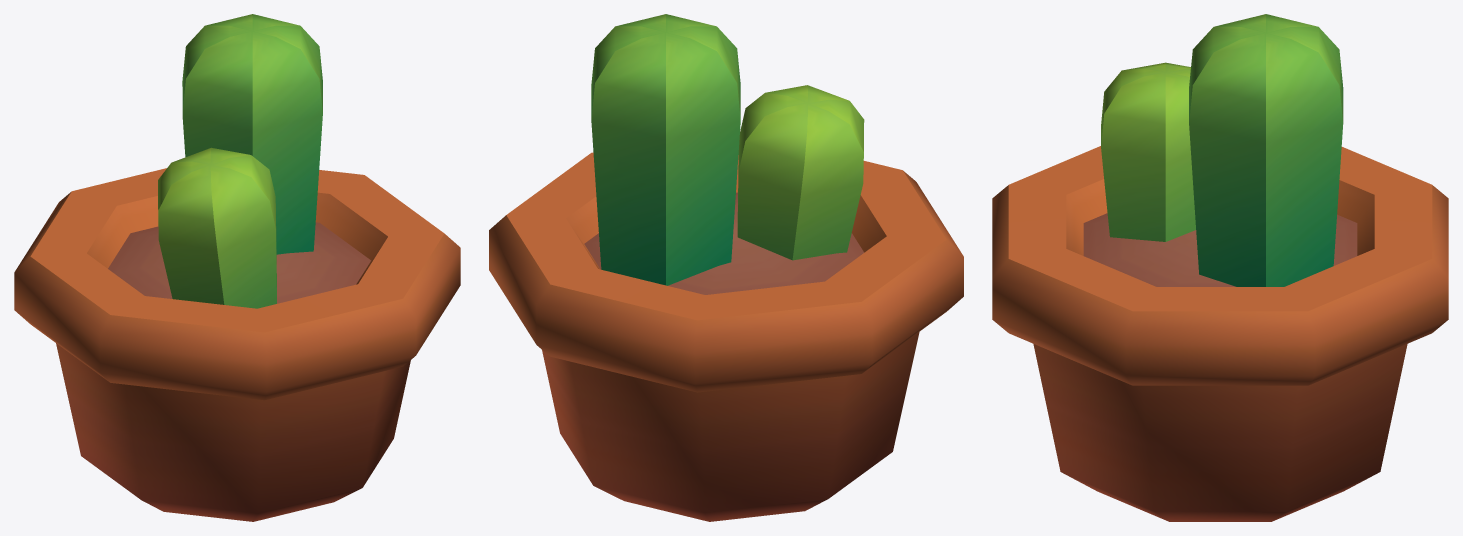
The model's file is cactus_small_a.glb.
3 views of the same model, side by side, from view 1: azimuth 30°, elevation 25°; view 2: azimuth 150°, elevation 25°; view 3: azimuth 270°, elevation 25° (orthographic). The views are drawn at different scales.
Visible parts, largest first — view 1: cactus_small_A; view 2: cactus_small_A; view 3: cactus_small_A.
Part boxes in pixels (bbox=[...]): cactus_small_A: bbox=[14, 14, 460, 521]; cactus_small_A: bbox=[489, 14, 963, 521]; cactus_small_A: bbox=[992, 14, 1448, 521].
Size of the model in its own units: 0.5 by 0.5516 by 0.5.
1 material, 1 textured.
